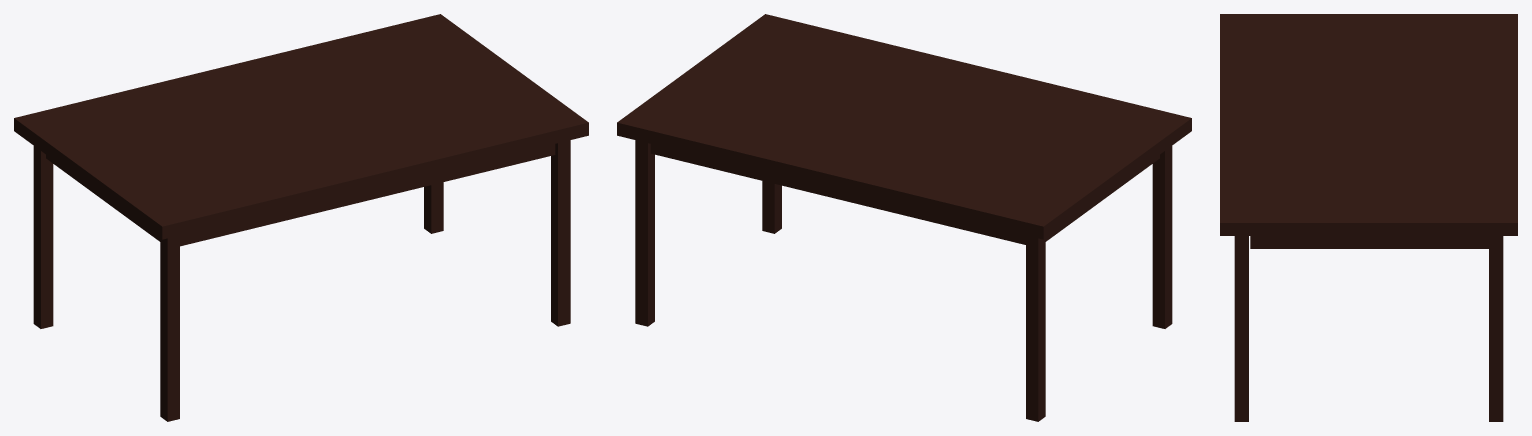
3 views of the same model, side by side, from view 1: azimuth 30°, elevation 25°; view 2: azimuth 150°, elevation 25°; view 3: azimuth 270°, elevation 25° (orthographic).
Bounding box in the file's own units: 1.71 × 0.78 × 1.03.
